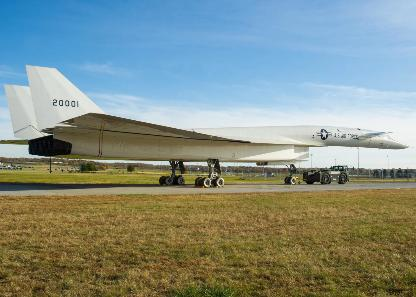U2: (0, 64, 416, 187)
